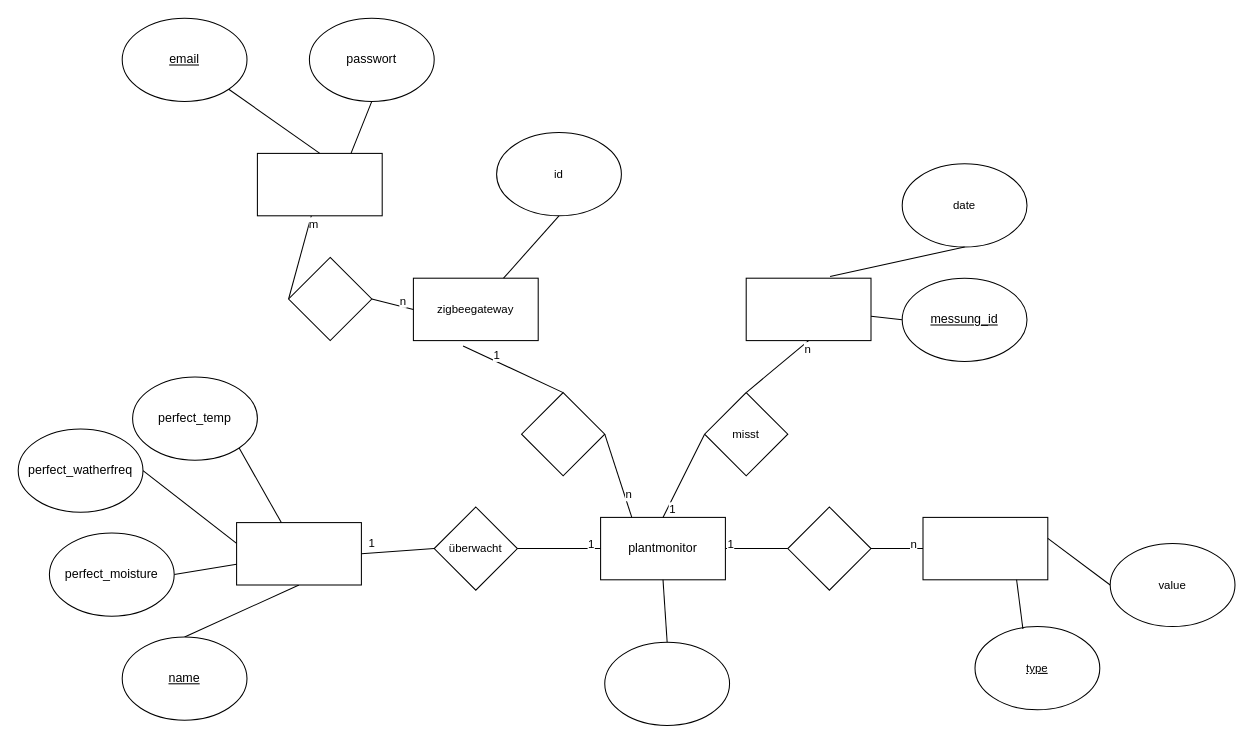
The diagram is 1253 pixels wide and 744 high, and some of its shapes have lost their labels. Here are the shapes that lost their labels. From the top down, the box of each, then its label:
(256, 152, 382, 216): Kunde
(288, 256, 372, 341): besitzt
(745, 277, 871, 341): messung
(521, 392, 605, 476): kommuniziert
(236, 522, 361, 585): Plant
(787, 506, 871, 590): enthält
(922, 516, 1048, 580): Sensor
(604, 641, 730, 725): plantmonitor_id
